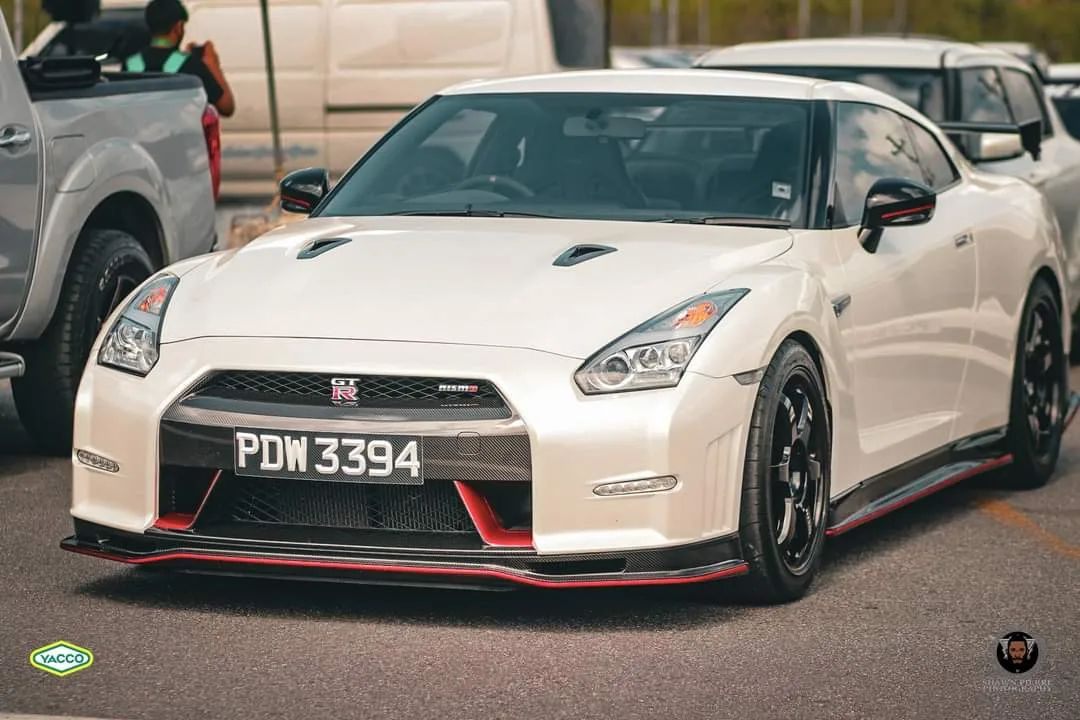License-Plate: (235, 425, 424, 473)
